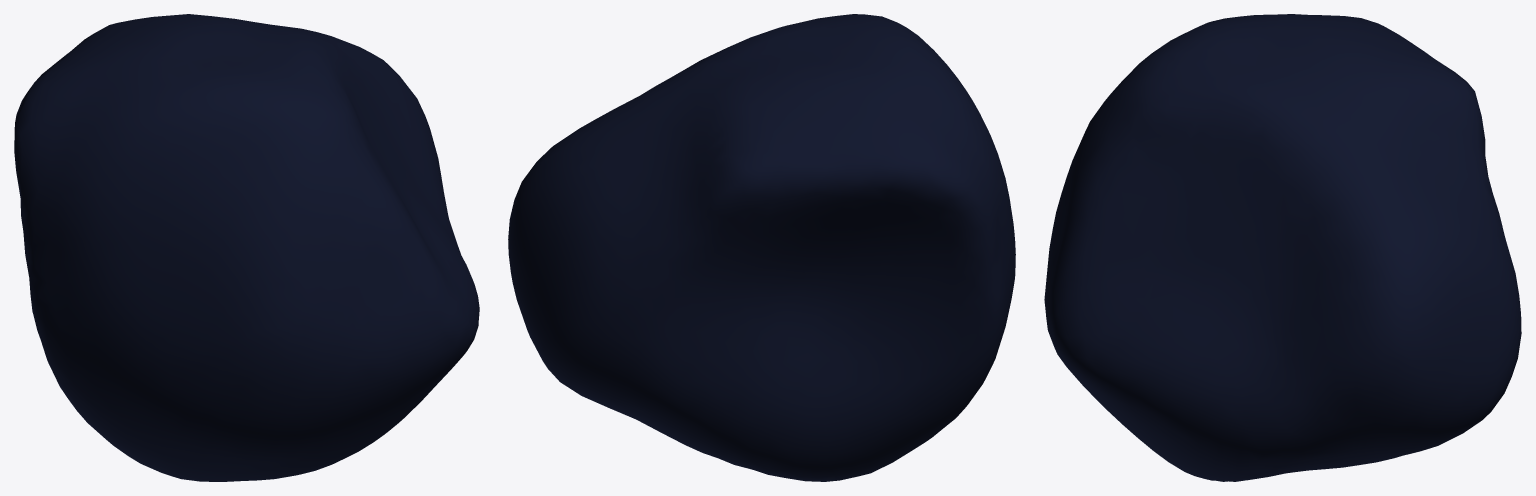
File: Rock.009.fbx
3 renders of one model, left to right at view 1: azimuth 30°, elevation 25°; view 2: azimuth 150°, elevation 25°; view 3: azimuth 270°, elevation 25°, orthographic. The views are drawn at different scales.
Parts seen in each view (by area): view 1: Rock.008; view 2: Rock.008; view 3: Rock.008.
Part boxes in pixels (box(x1,y1,x2,y2)): Rock.008: box(14, 14, 479, 481); Rock.008: box(508, 14, 1015, 481); Rock.008: box(1044, 14, 1521, 481).
Bounding box in the file's own units: 387 × 346 × 368.
